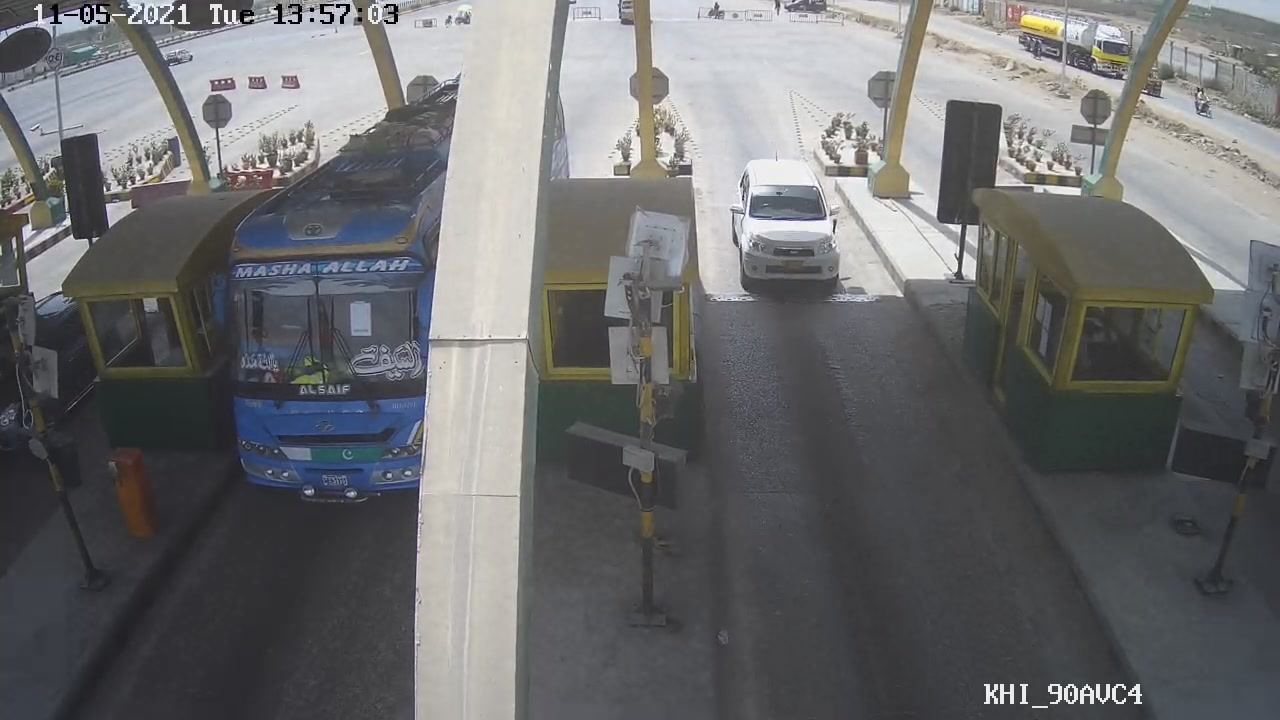F1: (729, 140, 851, 302)
